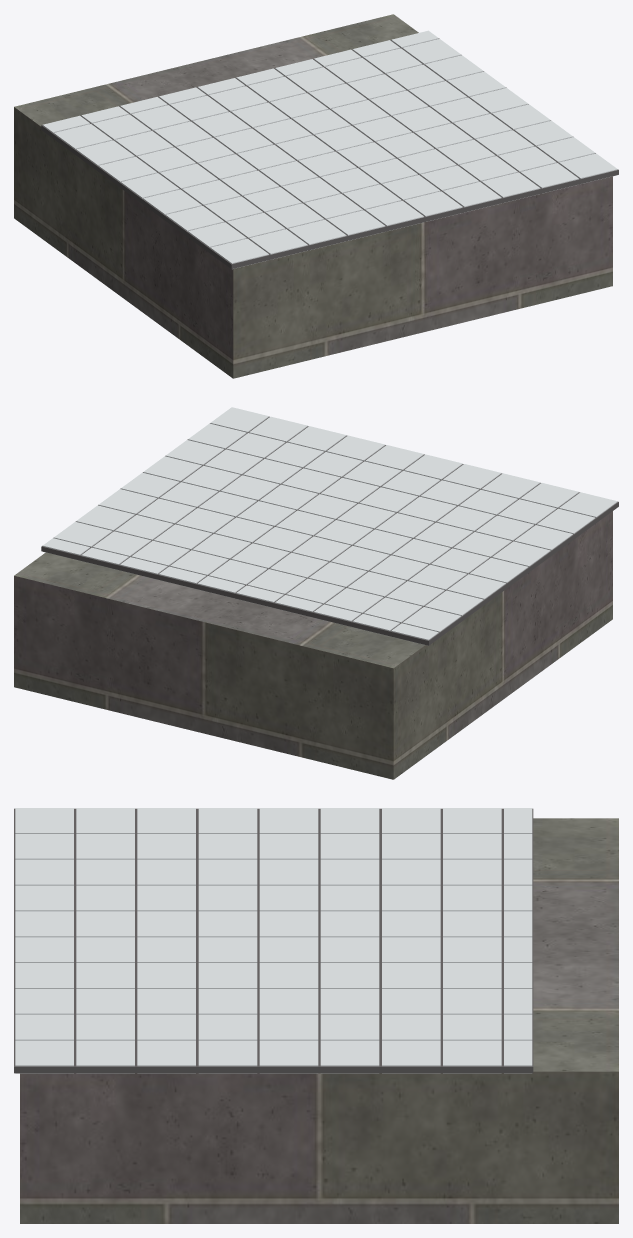
File: floor_bath_g_e0010.glb
The picture shows the model from 3 angles, top to bottom: view 1: azimuth 30°, elevation 25°; view 2: azimuth 150°, elevation 25°; view 3: azimuth 270°, elevation 25°; orthographic projection. The views are drawn at different scales.
Parts seen in each view (by area): view 1: floor_bath_g_e0010_plinth, floor_bath_g_e0010_tile, floor_bath_g_e0010_dark; view 2: floor_bath_g_e0010_plinth, floor_bath_g_e0010_tile, floor_bath_g_e0010_dark; view 3: floor_bath_g_e0010_tile, floor_bath_g_e0010_plinth, floor_bath_g_e0010_dark.
Boxes of the visible parts, x1,y1,x2,y2 form: floor_bath_g_e0010_plinth: [14, 14, 612, 378]; floor_bath_g_e0010_tile: [42, 30, 617, 269]; floor_bath_g_e0010_dark: [41, 38, 618, 269]; floor_bath_g_e0010_plinth: [14, 511, 612, 779]; floor_bath_g_e0010_tile: [43, 407, 617, 645]; floor_bath_g_e0010_dark: [41, 416, 618, 645]; floor_bath_g_e0010_tile: [15, 808, 532, 1073]; floor_bath_g_e0010_plinth: [20, 818, 618, 1223]; floor_bath_g_e0010_dark: [14, 808, 533, 1073].
Size of the model in its own units: 2 by 0.58 by 1.98.
Materials: 3 (1 with a texture image).
